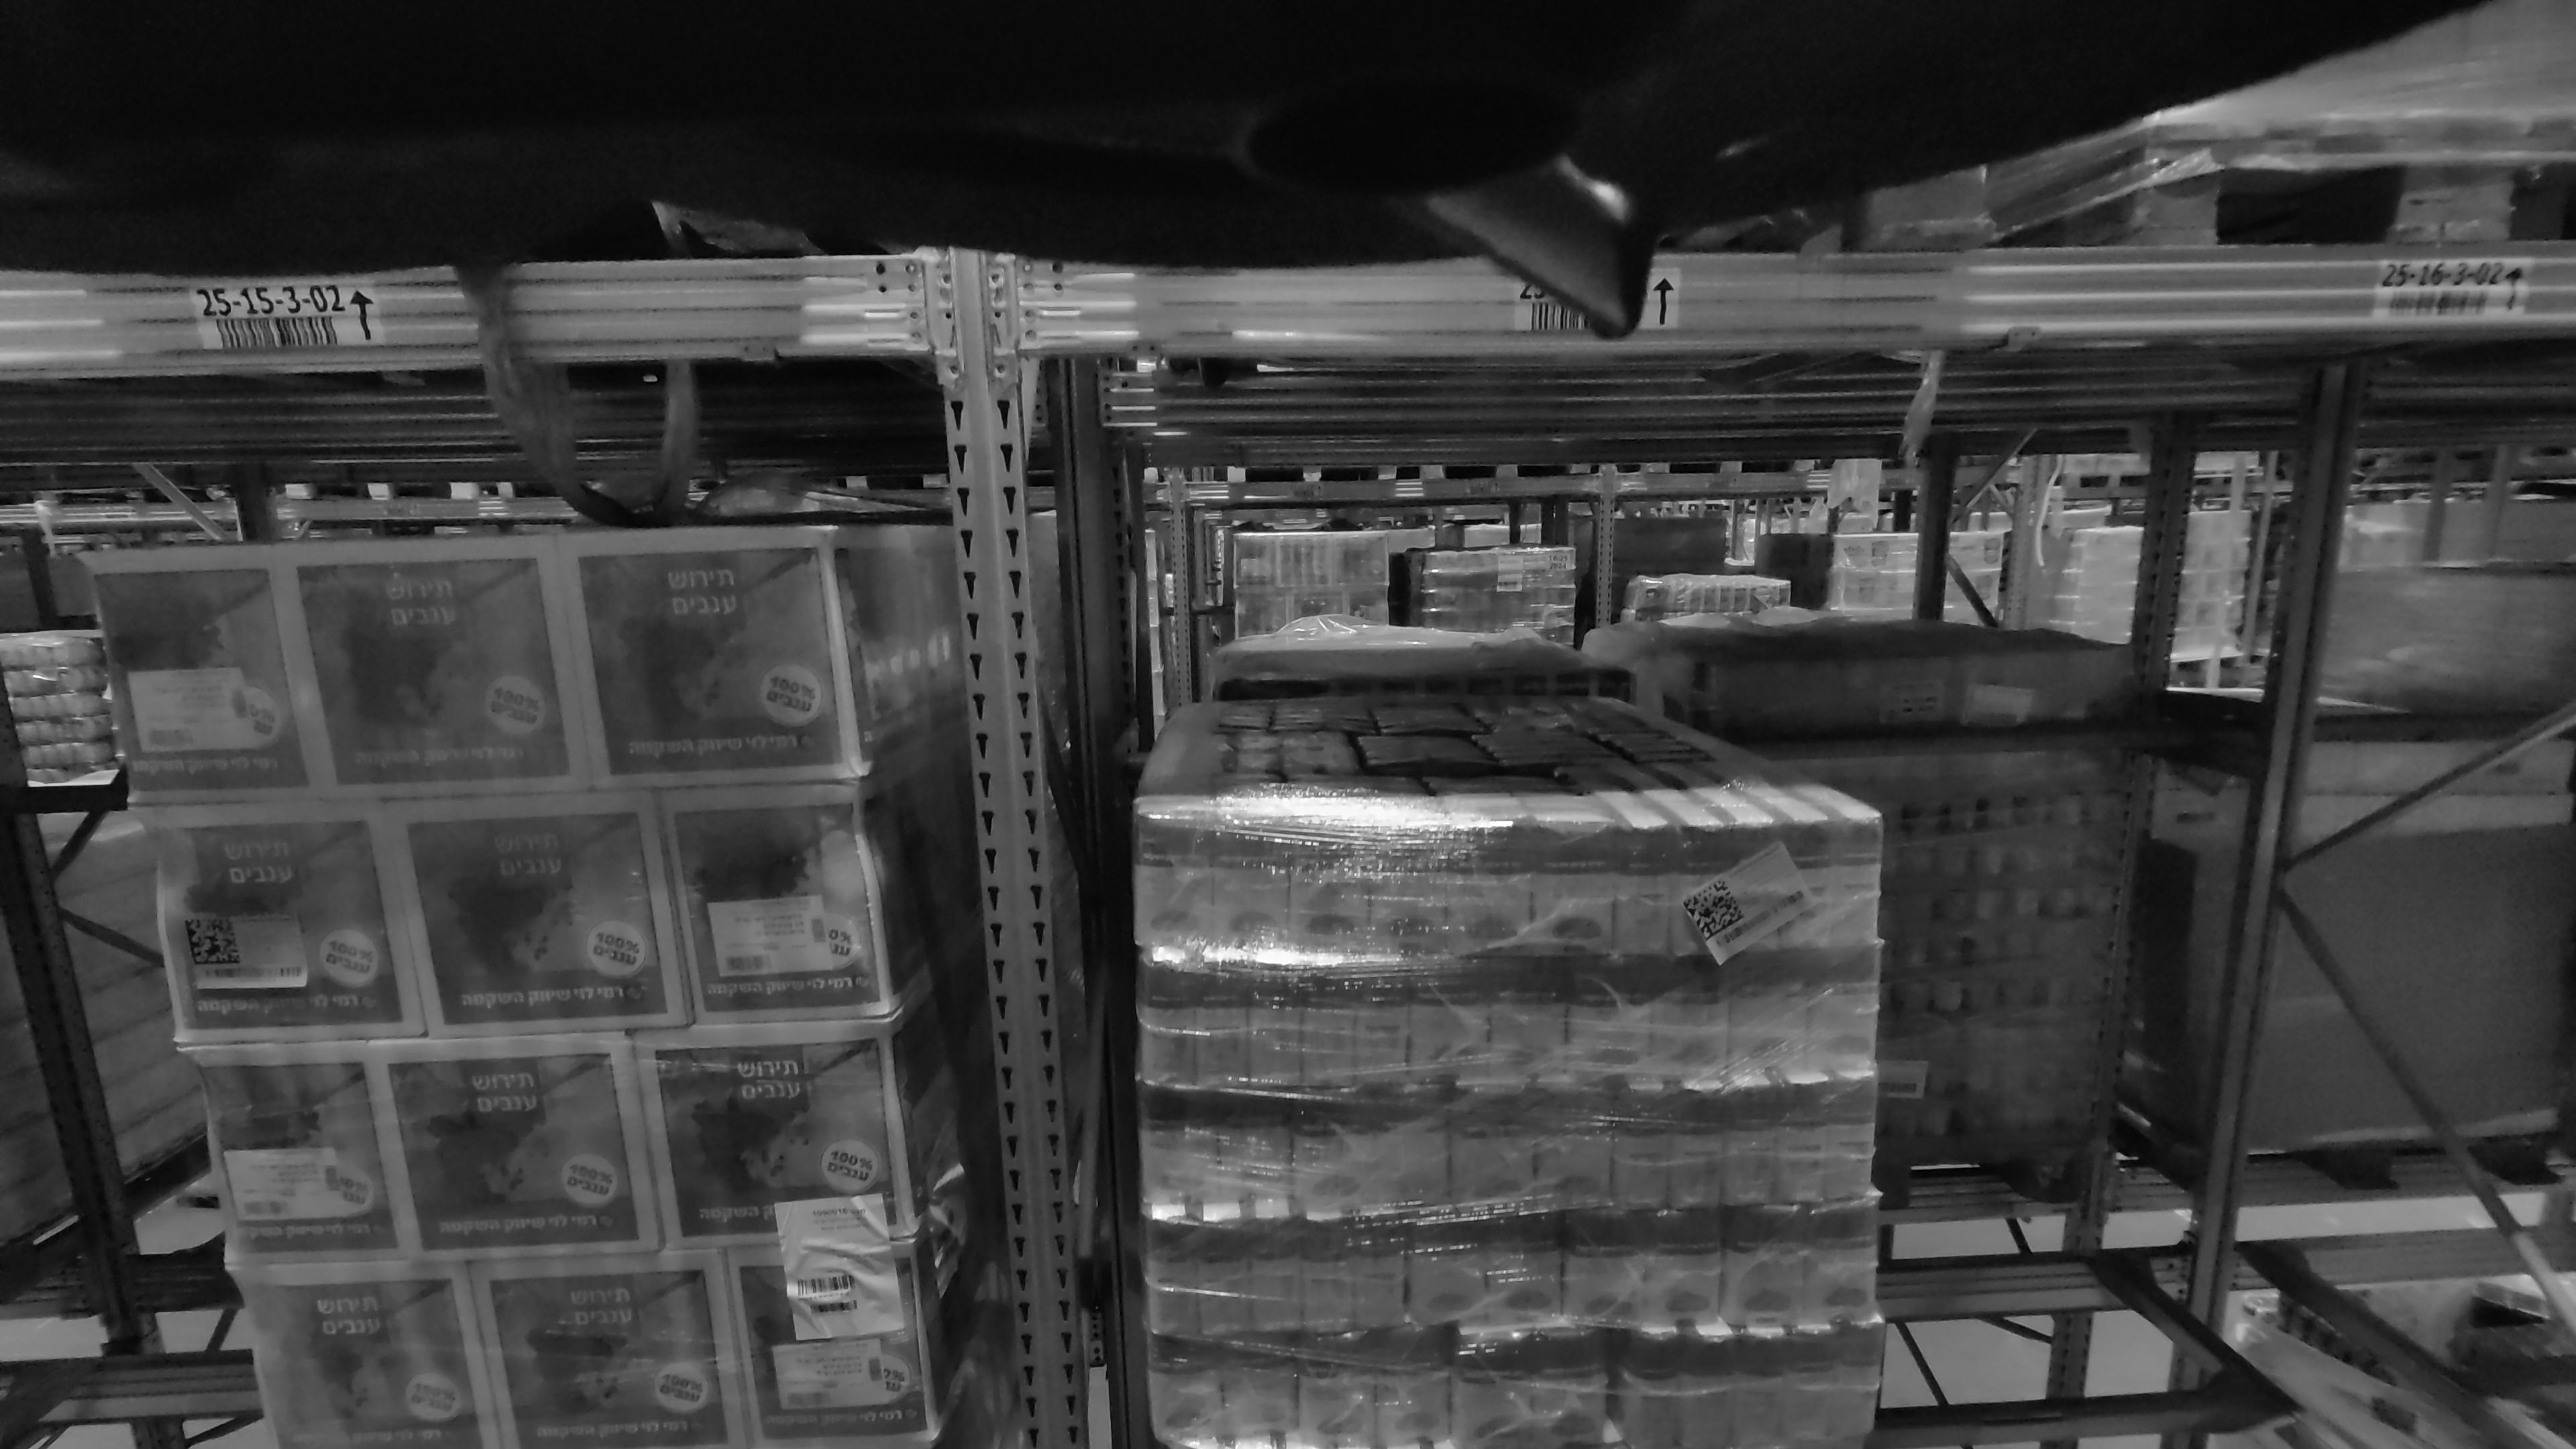empty-shelf: (1904, 357, 2443, 1449)
